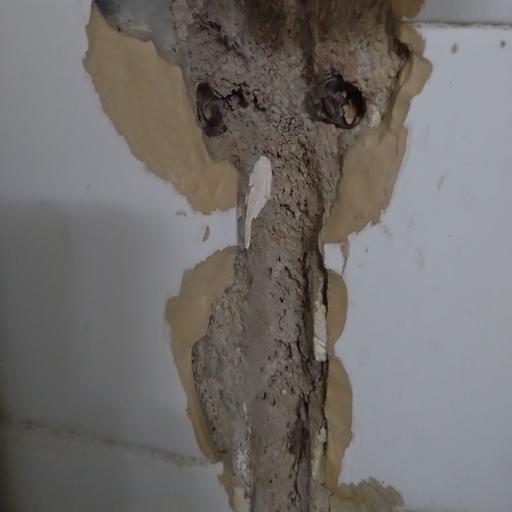spalling: (74, 0, 430, 512)
